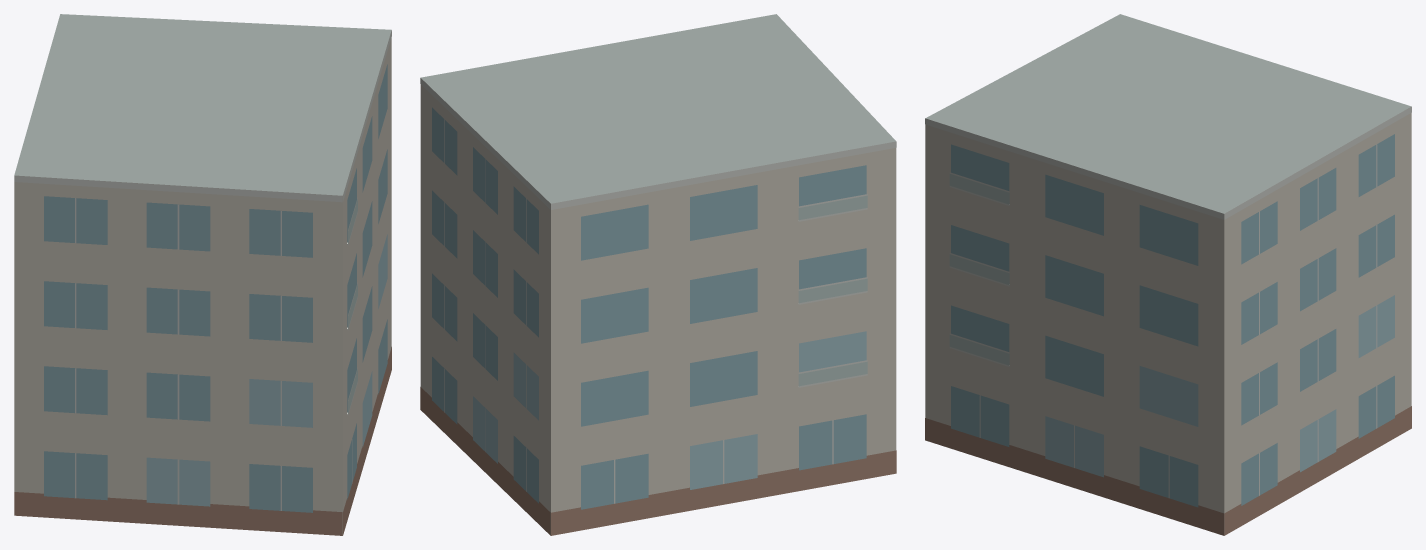
Rendered from survey-upis-32847565.glb.
3 renders of one model, left to right at view 1: azimuth 30°, elevation 25°; view 2: azimuth 150°, elevation 25°; view 3: azimuth 270°, elevation 25°, orthographic. The views are drawn at different scales.
Parts seen in each view (by area): view 1: survey-upis-32847565.tmp; view 2: survey-upis-32847565.tmp; view 3: survey-upis-32847565.tmp.
Boxes of the visible parts, <box> form: survey-upis-32847565.tmp: <box>14,14,391,535</box>; survey-upis-32847565.tmp: <box>420,14,896,535</box>; survey-upis-32847565.tmp: <box>925,14,1411,535</box>.
Size of the model in its own units: 17.04 by 12.8 by 17.53.
